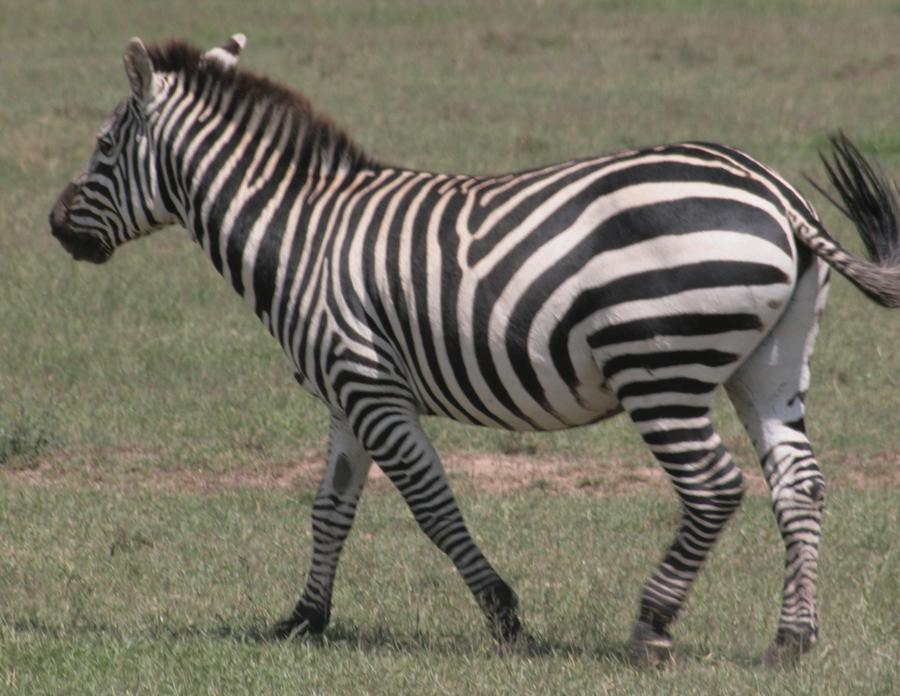zebra_plains: (297, 152, 733, 449)
